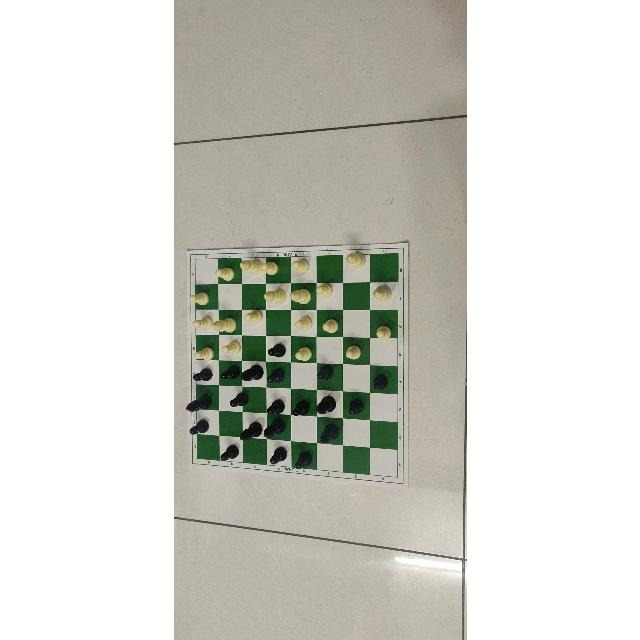black-bishop: (184, 393, 212, 413), (262, 416, 286, 439), (238, 421, 262, 442), (318, 423, 340, 445), (238, 364, 263, 382), (314, 395, 336, 415)
black-pawn: (218, 444, 240, 462), (269, 445, 287, 466), (187, 418, 209, 435), (294, 450, 312, 470), (227, 391, 248, 408), (264, 367, 285, 384), (290, 399, 309, 417), (316, 363, 334, 381), (265, 398, 284, 415), (191, 367, 212, 382), (346, 398, 363, 416), (219, 364, 238, 380), (371, 372, 387, 391), (266, 343, 286, 358)
white-bishop: (210, 316, 236, 334), (238, 258, 264, 276), (261, 287, 286, 305), (288, 287, 311, 305), (371, 284, 391, 303), (345, 252, 365, 270)
white-pawn: (191, 315, 213, 331), (213, 266, 234, 282), (290, 257, 309, 274), (313, 281, 332, 298), (320, 317, 339, 334), (193, 346, 213, 362), (243, 309, 263, 325), (220, 340, 241, 355), (344, 344, 362, 361), (374, 324, 392, 341), (259, 261, 278, 277), (188, 291, 208, 306), (294, 316, 312, 332), (294, 346, 312, 362)
